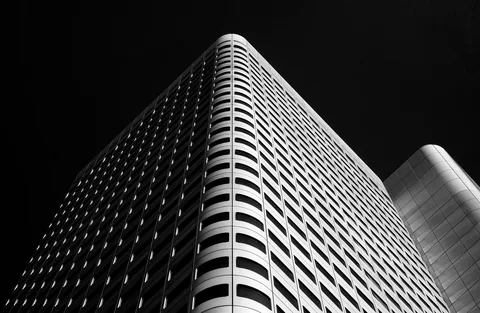high_rise_building: (151, 16, 320, 313)
